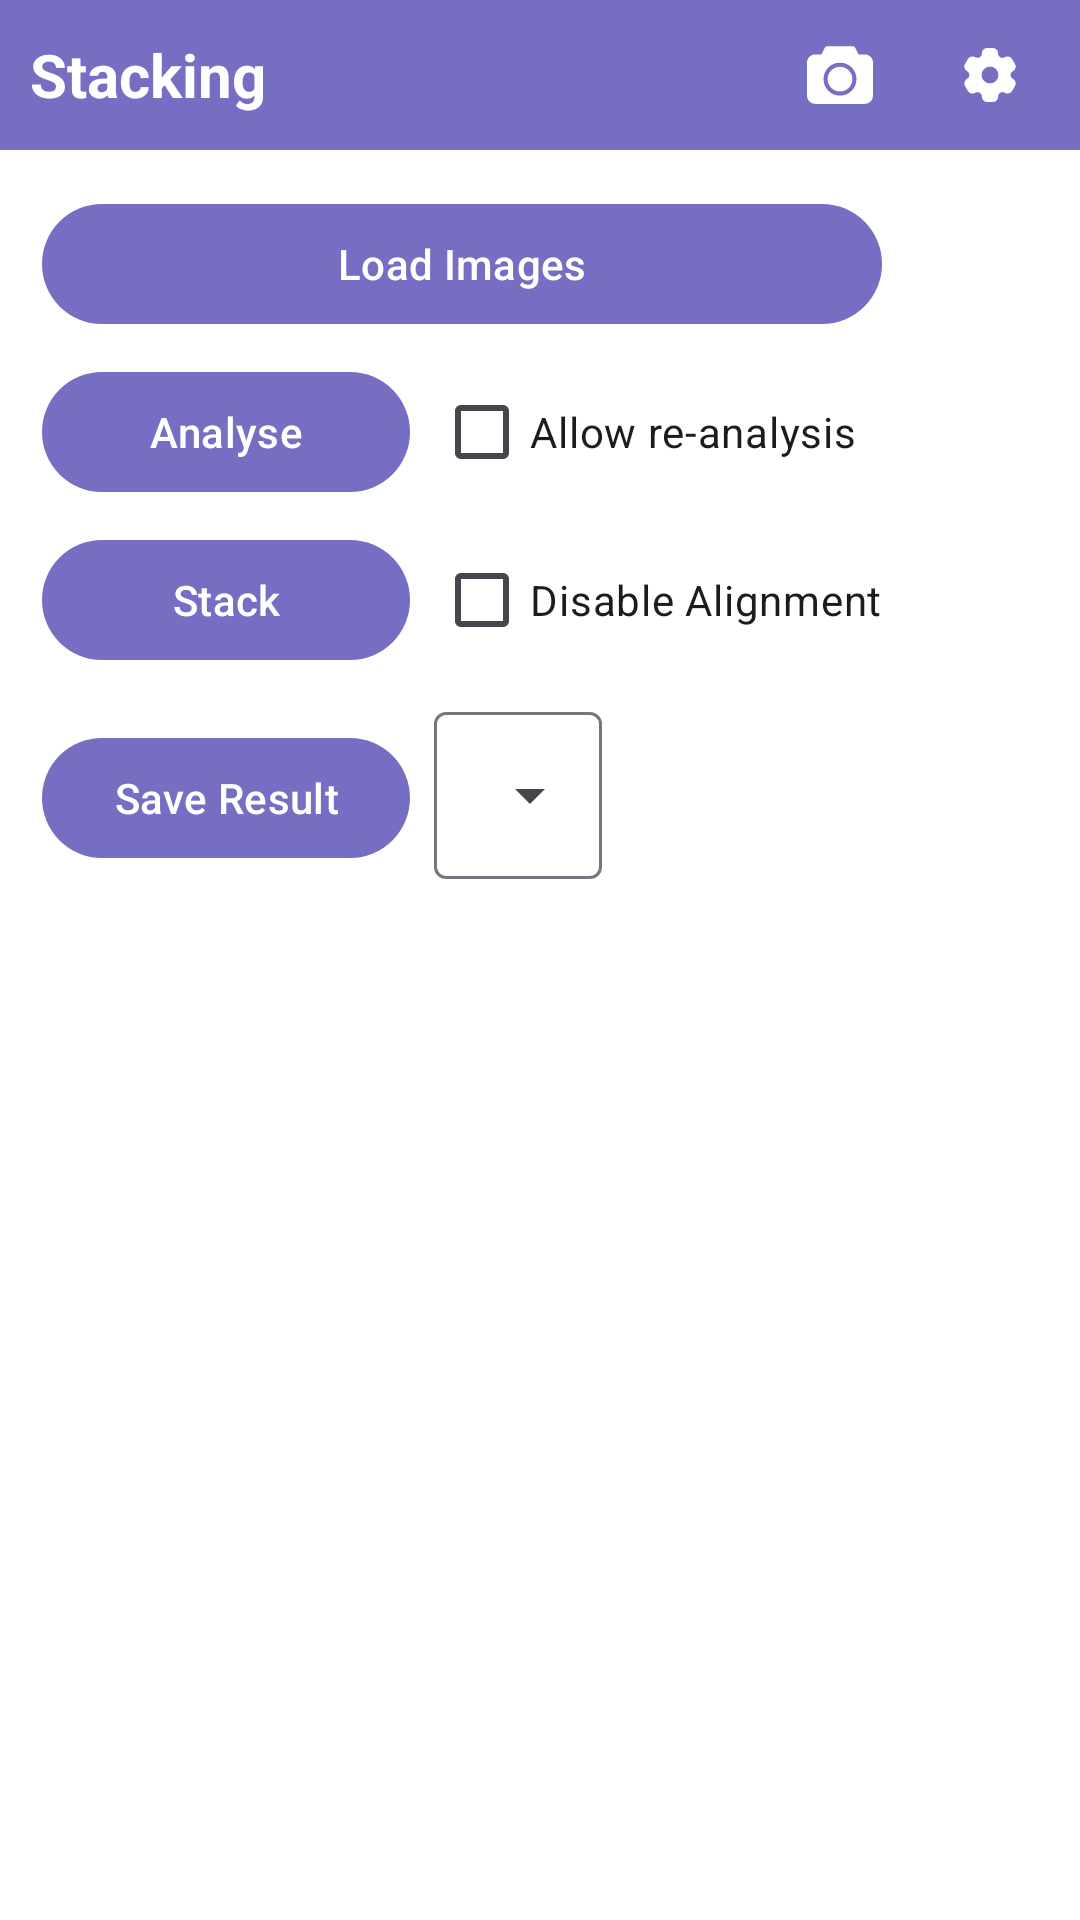

Icon click points for this 1080px×1920px phone screenshot, format [x,y]:
camera nav: [840,75]
settings: [990,75]
